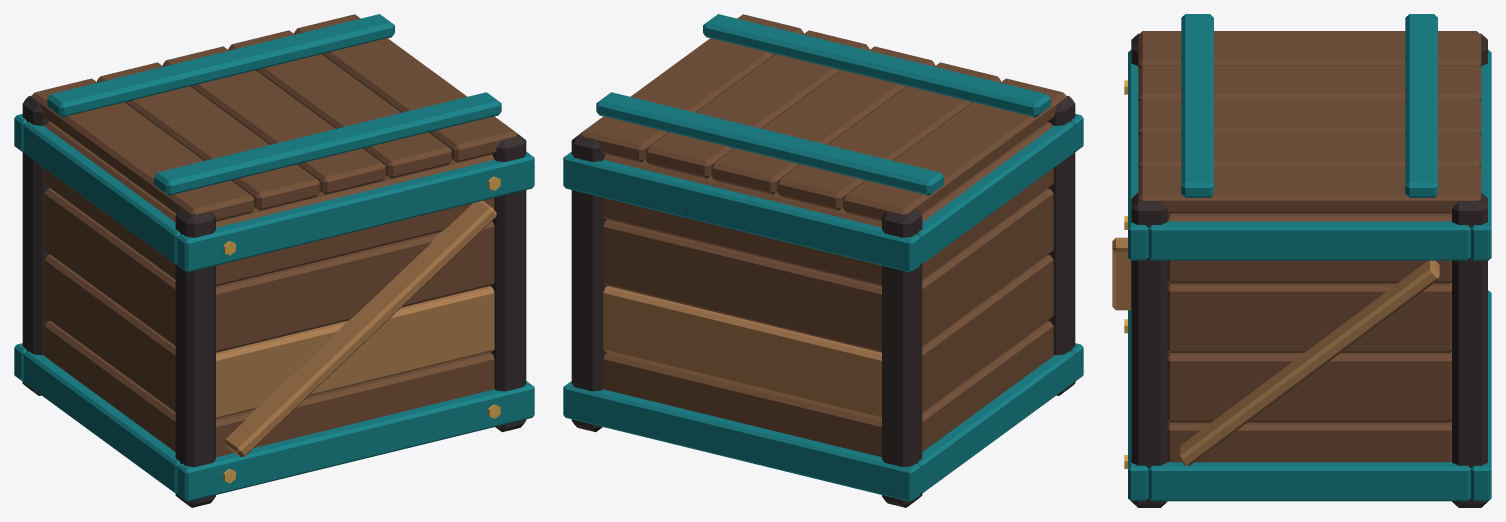
File: 03_Shipping_Crate.glb
The picture shows the model from 3 angles, left to right: view 1: azimuth 30°, elevation 25°; view 2: azimuth 150°, elevation 25°; view 3: azimuth 270°, elevation 25°; orthographic projection. The views are drawn at different scales.
Visible parts, largest first — view 1: 03_Shipping_Crate__Body, 03_Shipping_Crate__Lid; view 2: 03_Shipping_Crate__Body, 03_Shipping_Crate__Lid; view 3: 03_Shipping_Crate__Body, 03_Shipping_Crate__Lid.
Boxes of the visible parts, left/top/right/bottom form: 03_Shipping_Crate__Body: left=14, top=95, right=534, bottom=507; 03_Shipping_Crate__Lid: left=31, top=14, right=517, bottom=221; 03_Shipping_Crate__Body: left=563, top=95, right=1083, bottom=507; 03_Shipping_Crate__Lid: left=580, top=14, right=1066, bottom=221; 03_Shipping_Crate__Body: left=1112, top=33, right=1491, bottom=507; 03_Shipping_Crate__Lid: left=1138, top=14, right=1481, bottom=213.
Bounding box in the file's own units: 2.54 × 2.09 × 2.2.
Materials: 1 (1 with a texture image).
